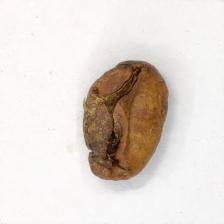NG: (83, 68, 137, 177)
